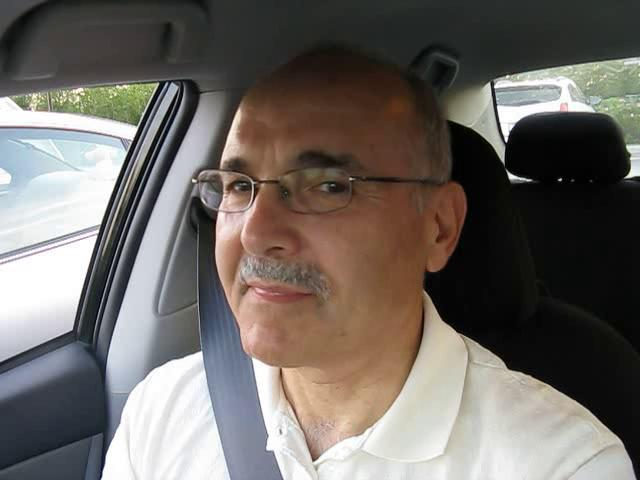no_yawn: (220, 265, 329, 322)
open_eyeL: (212, 166, 269, 209)
open_eyeR: (287, 162, 369, 217)
